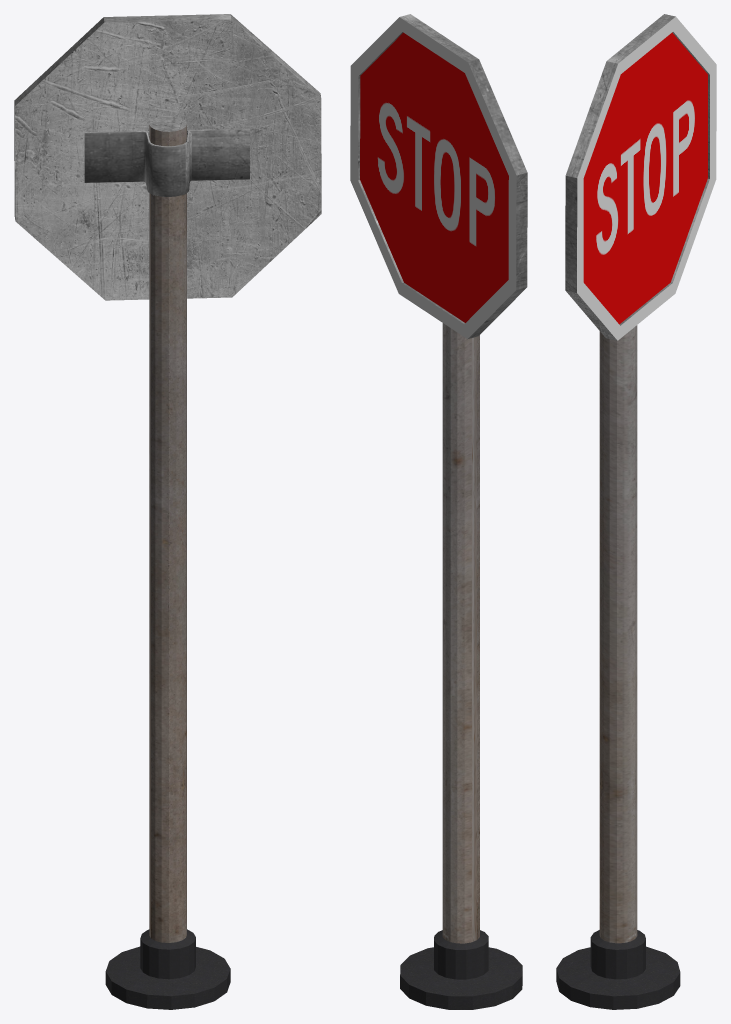
The model's file is Signal_Stop.fbx.
3 views of the same model, side by side, from view 1: azimuth 30°, elevation 25°; view 2: azimuth 150°, elevation 25°; view 3: azimuth 270°, elevation 25° (orthographic).
Visible parts, largest first — view 1: Cylinder002; view 2: Cylinder002; view 3: Cylinder002.
Part boxes in pixels (left/top/right/bottom): Cylinder002: left=14, top=14, right=321, bottom=1009; Cylinder002: left=350, top=14, right=527, bottom=1009; Cylinder002: left=556, top=14, right=716, bottom=1009.
Size of the model in its own units: 23.19 by 87.42 by 13.36.
Materials: 1 (1 with a texture image).
